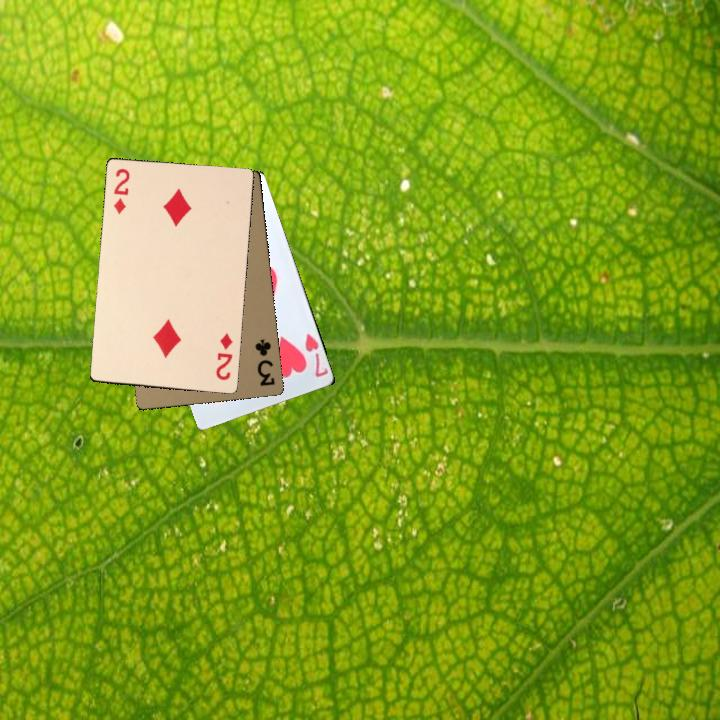2d: (212, 330, 235, 383), (109, 164, 132, 217)
3c: (251, 335, 277, 389)
7h: (301, 330, 331, 380)
